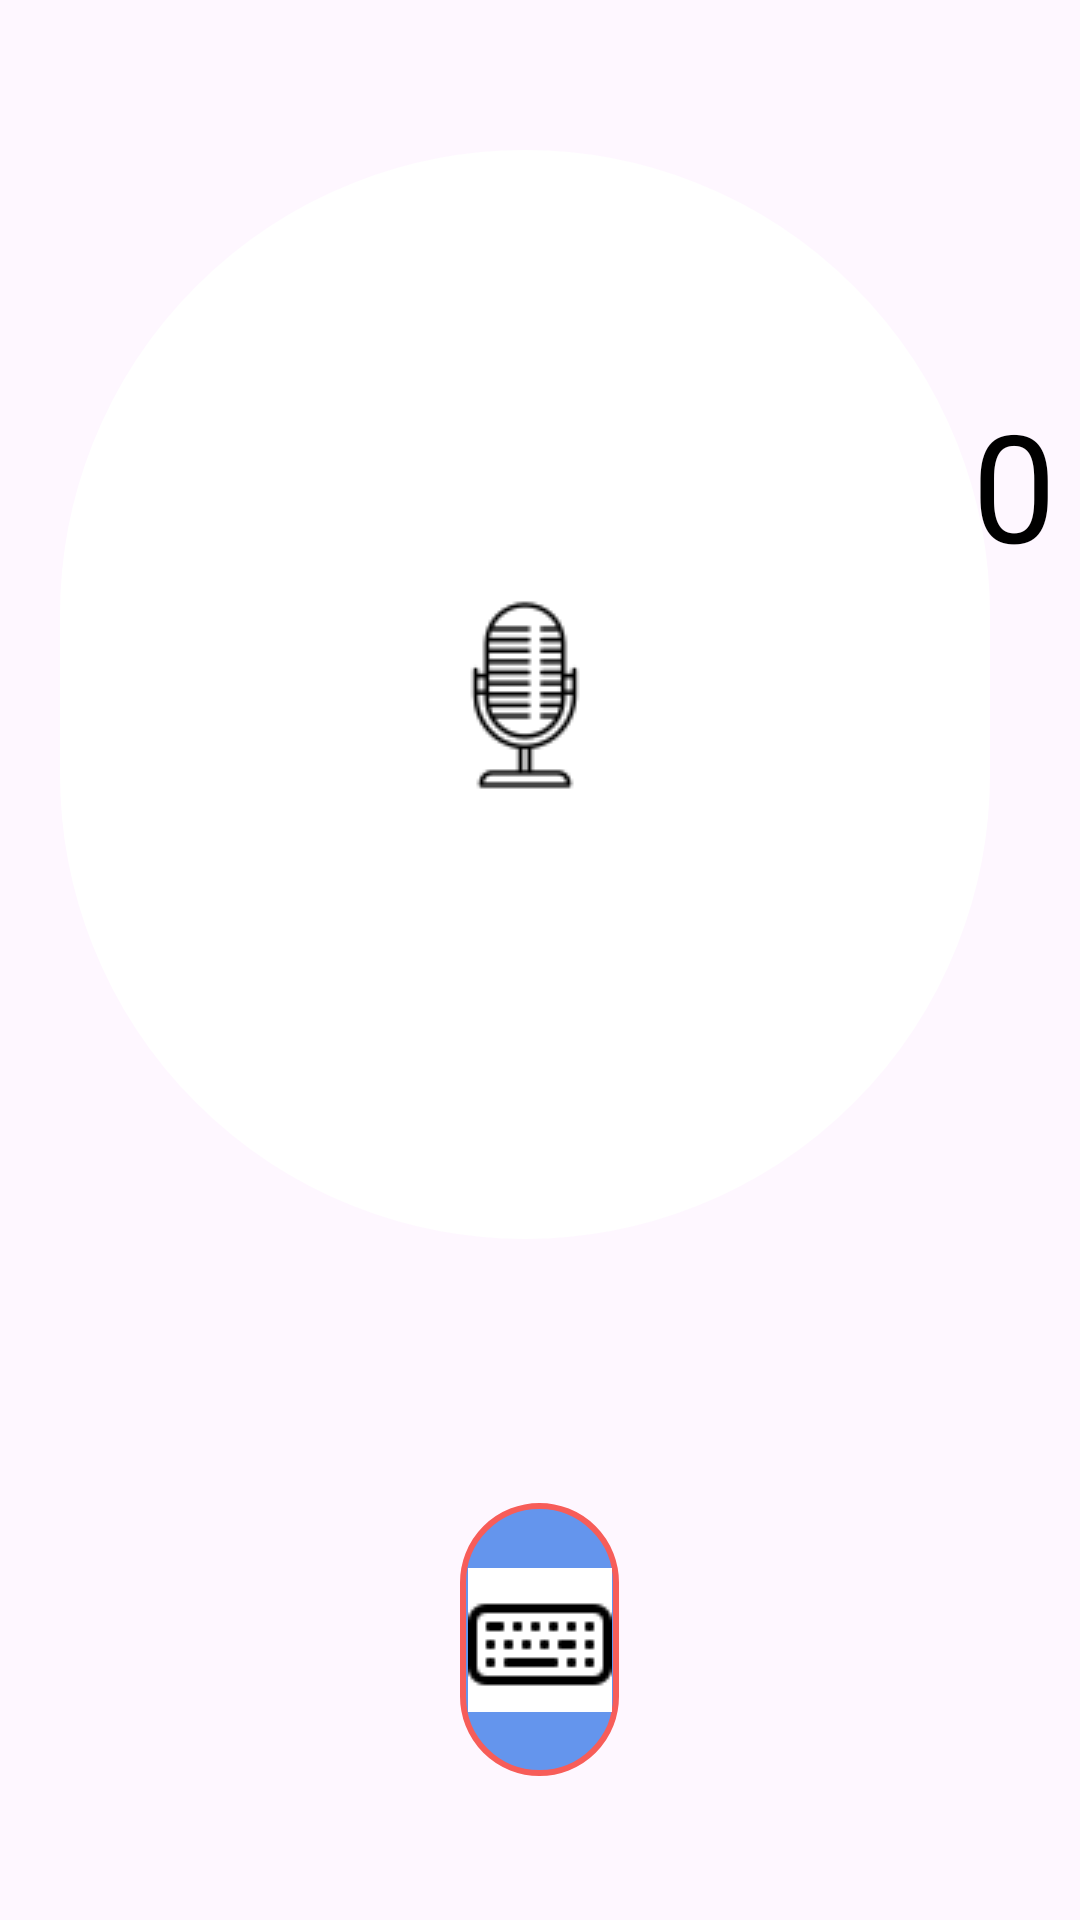

Named icons in this screenshot (1080x1920) and their centers, (x,y):
keyboard: (539,1639)
